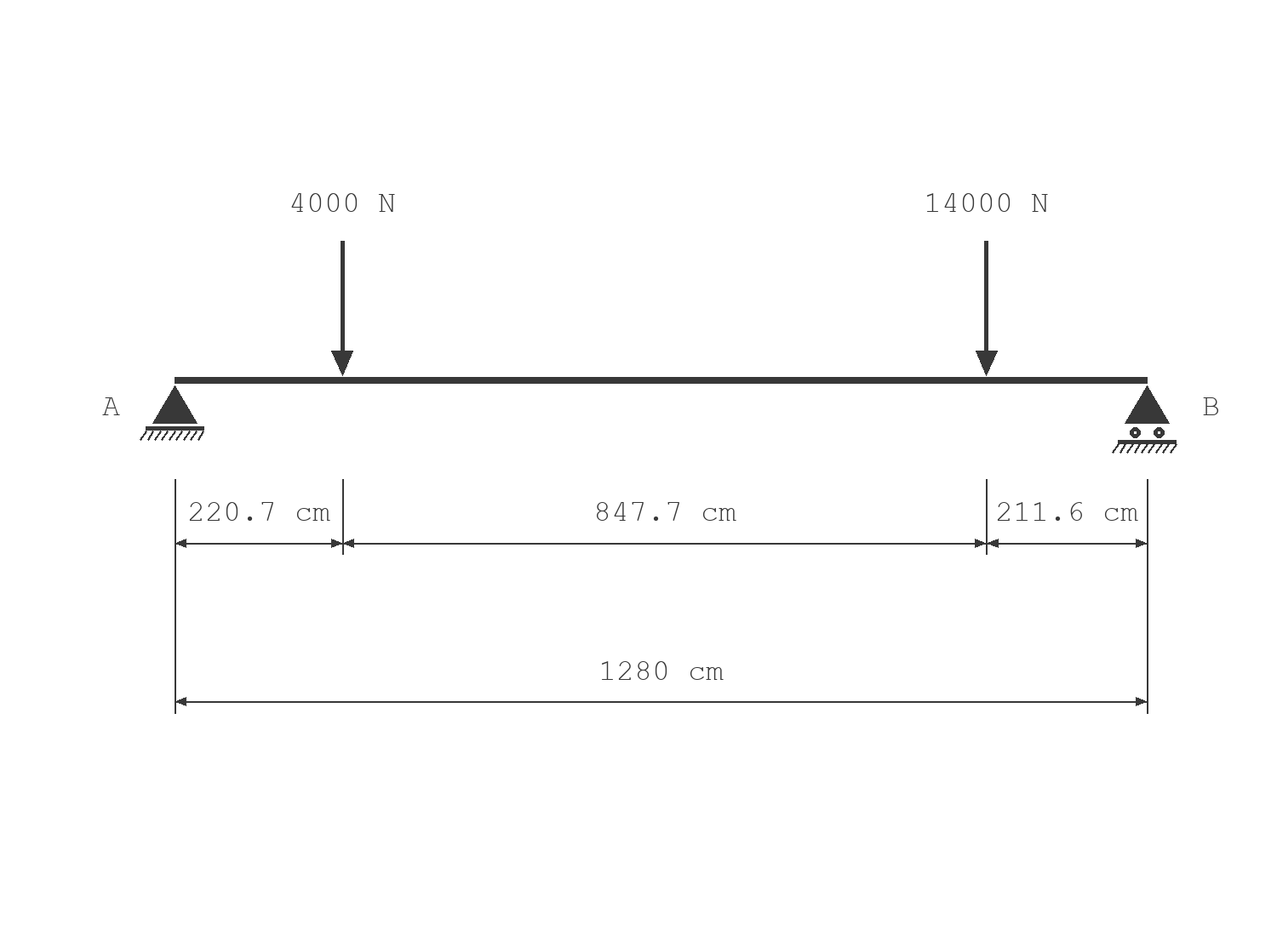pin_support: (140, 385, 204, 441)
point_load: (331, 241, 353, 376), (976, 241, 998, 376)
roller_support: (1112, 385, 1177, 454)
